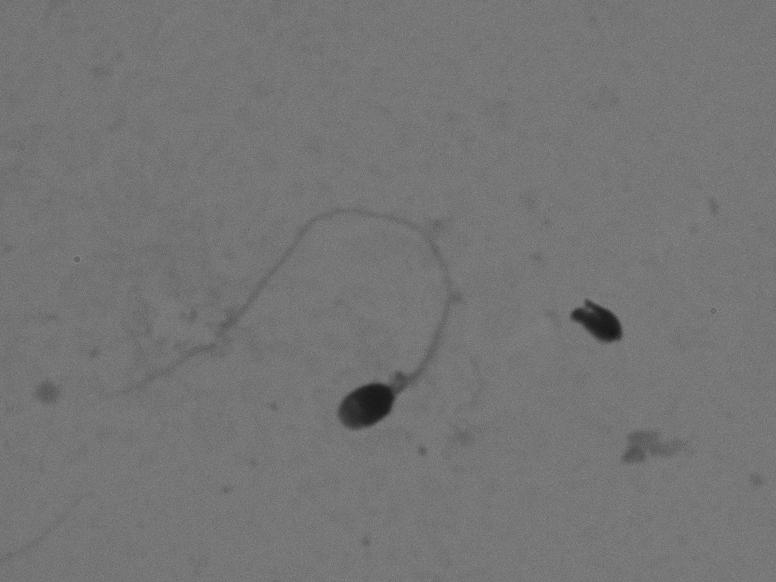Abnormal: (88, 193, 509, 442)
